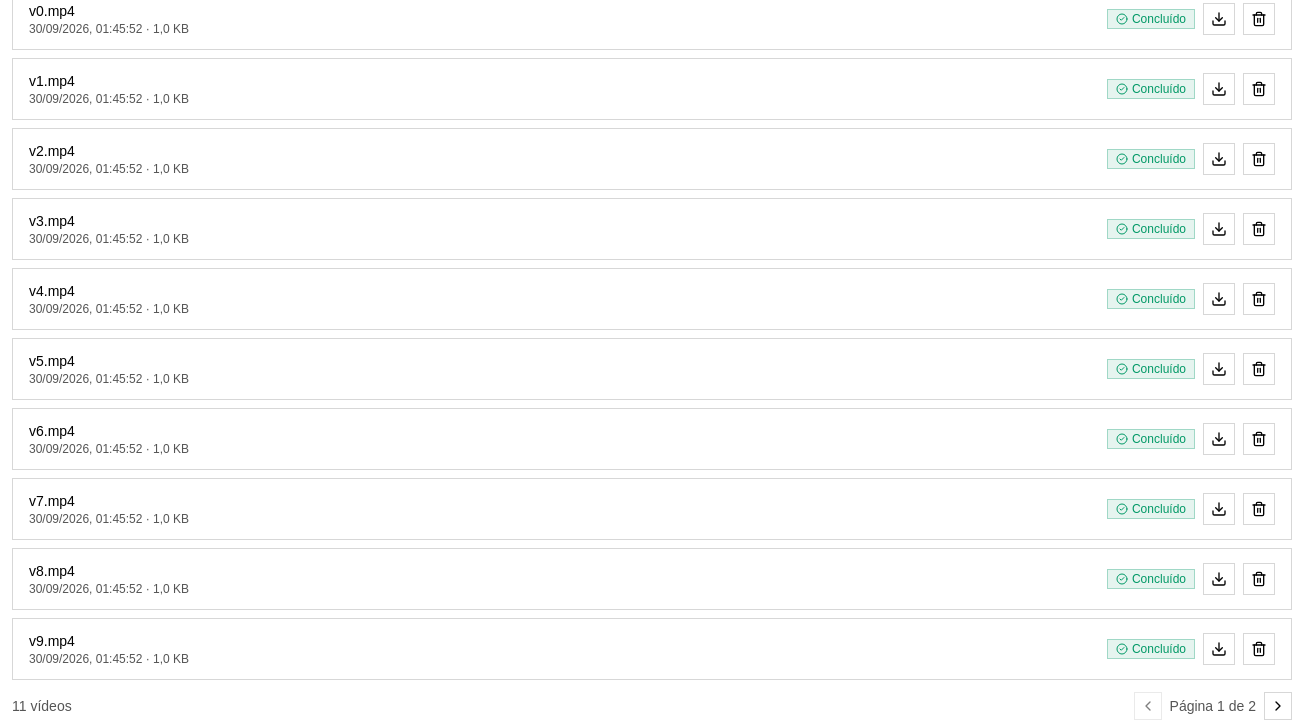
Test: VideoList › pagina de 10 em 10 e busca a próxima página ao avançar
(page scrolled)
Expected: the text "v0.mp4" is shown, [29, 3, 75, 19]
Expected: the text "Página 1 de 2" is shown, [1170, 696, 1256, 716]
Click the button named "próxima página" at (1278, 706), box [1264, 692, 1292, 719]
(page scrolled)
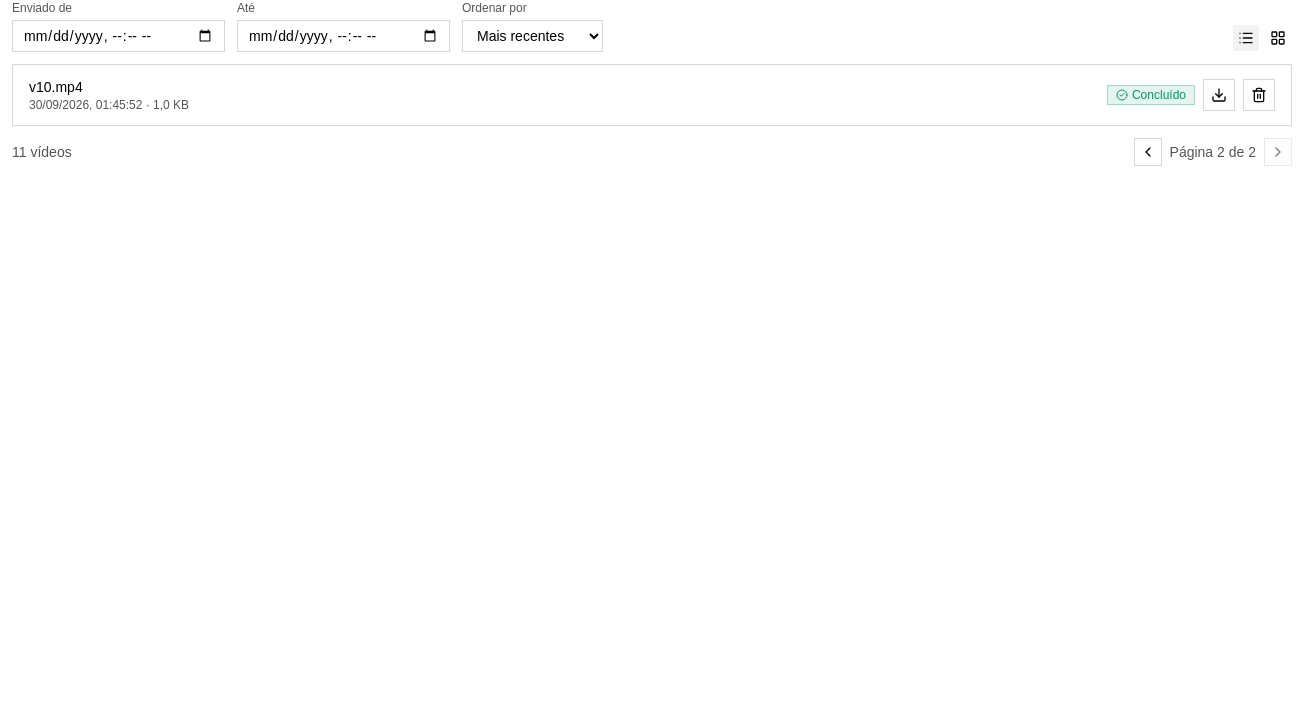
Expected: the text "v10.mp4" is shown, [29, 79, 83, 95]
Expected: the text "v0.mp4" is gone
Expected: the text "Página 2 de 2" is shown, [1170, 142, 1256, 162]
